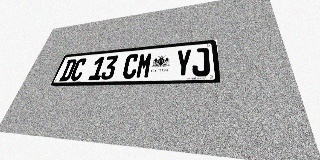1: (88, 56, 107, 80)
3: (100, 55, 119, 80)
C: (121, 53, 140, 79), (69, 58, 88, 81)
D: (59, 59, 78, 81)
J: (192, 47, 210, 77)
M: (135, 52, 153, 79)
Y: (175, 49, 192, 77)
